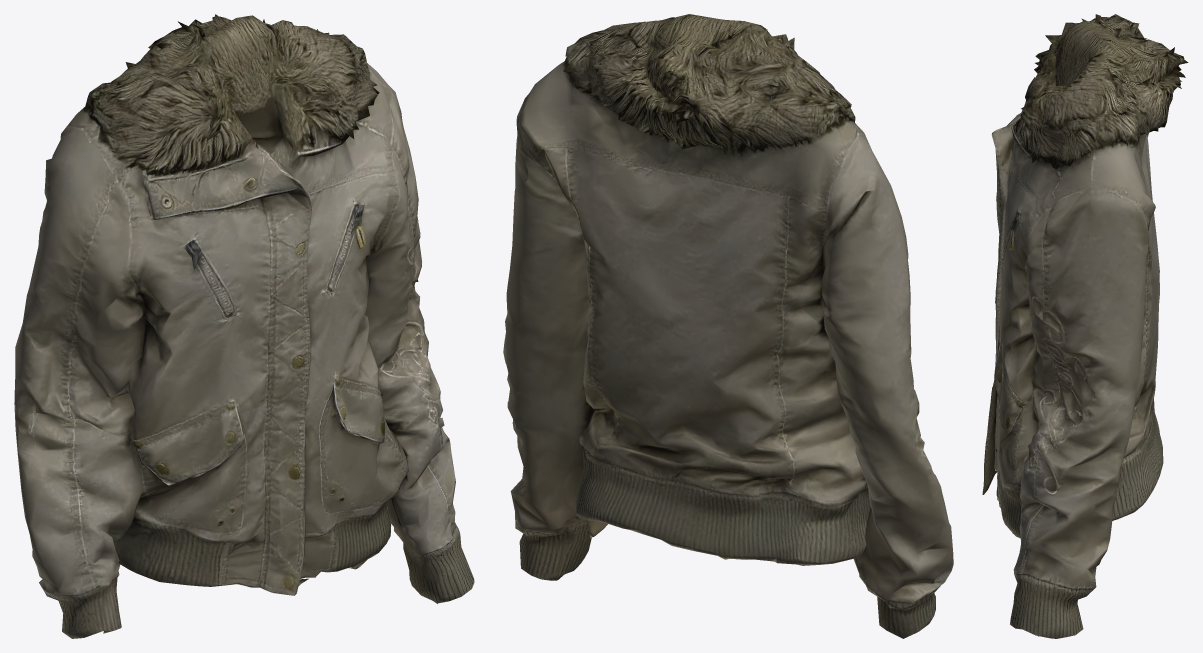
3 views of the same model, side by side, from view 1: azimuth 30°, elevation 25°; view 2: azimuth 150°, elevation 25°; view 3: azimuth 270°, elevation 25° (orthographic). The views are drawn at different scales.
Visible parts, largest first — view 1: tripo_node_35c84db3-6b58-40a1-8b4e-9897cbf26bcf; view 2: tripo_node_35c84db3-6b58-40a1-8b4e-9897cbf26bcf; view 3: tripo_node_35c84db3-6b58-40a1-8b4e-9897cbf26bcf.
Boxes of the visible parts, x1,y1,x2,y2 form: tripo_node_35c84db3-6b58-40a1-8b4e-9897cbf26bcf: [14, 14, 474, 638]; tripo_node_35c84db3-6b58-40a1-8b4e-9897cbf26bcf: [503, 14, 953, 638]; tripo_node_35c84db3-6b58-40a1-8b4e-9897cbf26bcf: [982, 14, 1188, 638].
Bounding box in the file's own units: 0.5883 × 0.7974 × 0.2799.
Materials: 1 (1 with a texture image).
